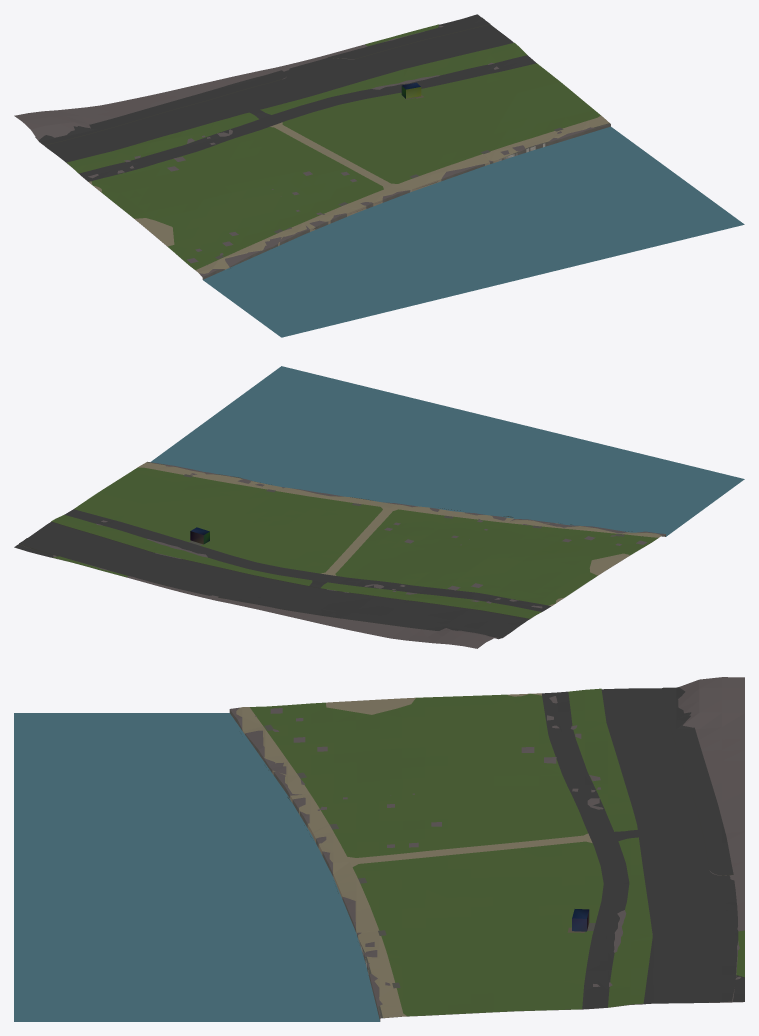
The picture shows the model from 3 angles, top to bottom: view 1: azimuth 30°, elevation 25°; view 2: azimuth 150°, elevation 25°; view 3: azimuth 270°, elevation 25°; orthographic projection. The views are drawn at different scales.
Parts seen in each view (by area): view 1: c_m04_m10, append:c_m04_m10; view 2: c_m04_m10; view 3: c_m04_m10, append:c_m04_m10.
Part boxes in pixels (x1=…): c_m04_m10: x1=14, y1=14, x2=744, y2=337; append:c_m04_m10: x1=202, y1=124, x2=610, y2=279; c_m04_m10: x1=14, y1=366, x2=744, y2=648; c_m04_m10: x1=14, y1=677, x2=744, y2=1021; append:c_m04_m10: x1=229, y1=709, x2=380, y2=1021.
Size of the model in its own units: 128 by 6.93 by 128.
